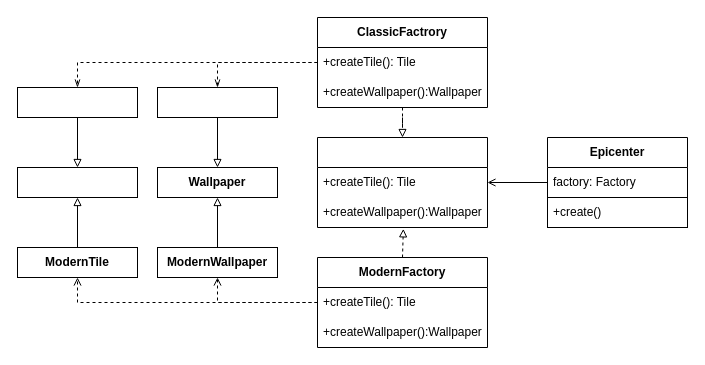
Image size: 705x365. Some labels were removed from this diagram. The box of each missing label's shape, as (x1, y1, x2, y2) in pixels:
<interface> Factory: (316, 136, 488, 228)
ClassicTile: (16, 86, 138, 118)
ClassicWallpaper: (156, 86, 278, 118)
Tile: (16, 166, 138, 198)
